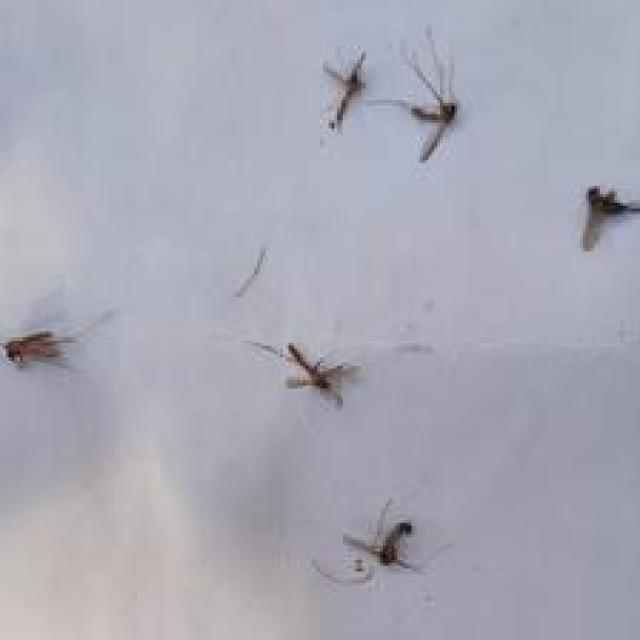Culex: (580, 183, 640, 251)
